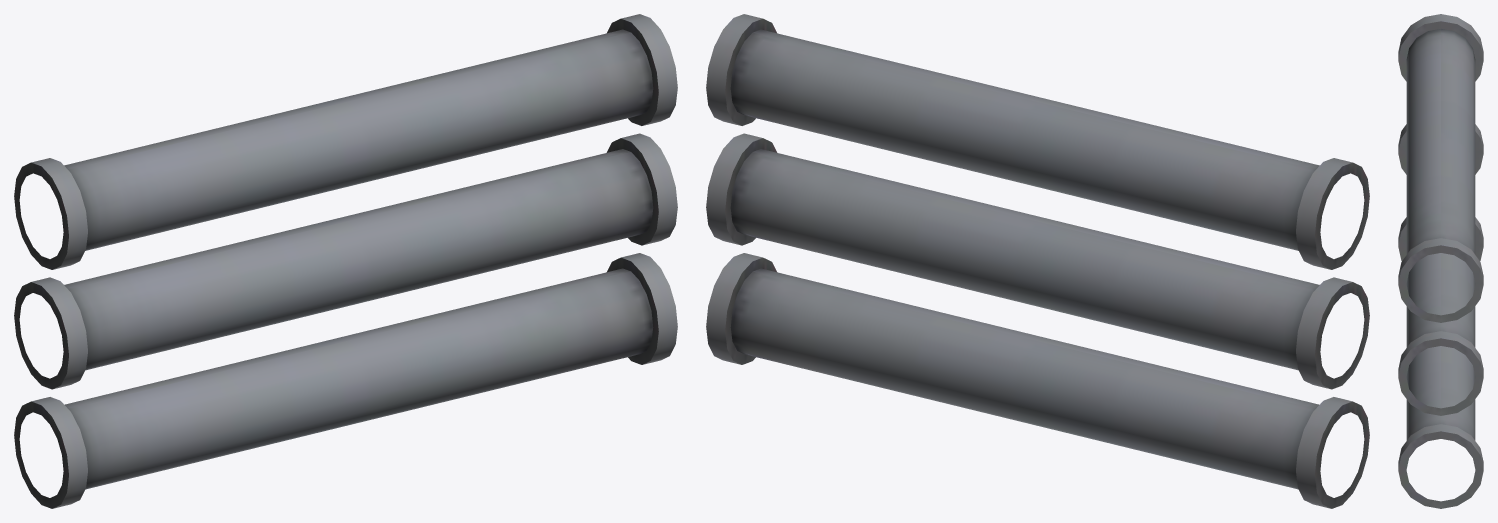
The picture shows the model from 3 angles, left to right: view 1: azimuth 30°, elevation 25°; view 2: azimuth 150°, elevation 25°; view 3: azimuth 270°, elevation 25°; orthographic projection. The views are drawn at different scales.
Visible parts, largest first — view 1: body0_model0_lod0_mesh0; view 2: body0_model0_lod0_mesh0; view 3: body0_model0_lod0_mesh0.
Boxes of the visible parts, x1,y1,x2,y2 form: body0_model0_lod0_mesh0: (14, 14, 677, 508); body0_model0_lod0_mesh0: (706, 14, 1369, 508); body0_model0_lod0_mesh0: (1398, 14, 1483, 508).
Bounding box in the file's own units: 64 × 34.02 × 10.02.
Materials: 1 (1 with a texture image).
